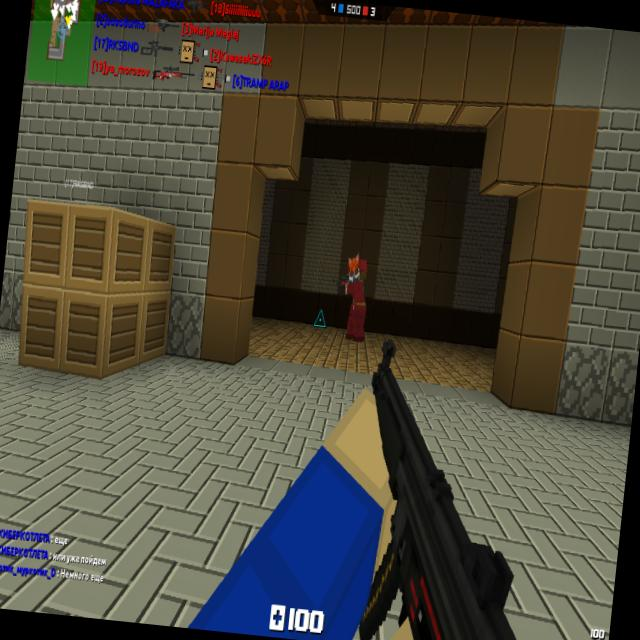enemy: (334, 256, 373, 343)
